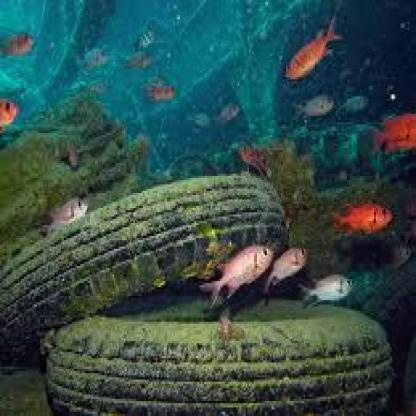tire: (68, 302, 410, 416), (1, 186, 290, 311)
